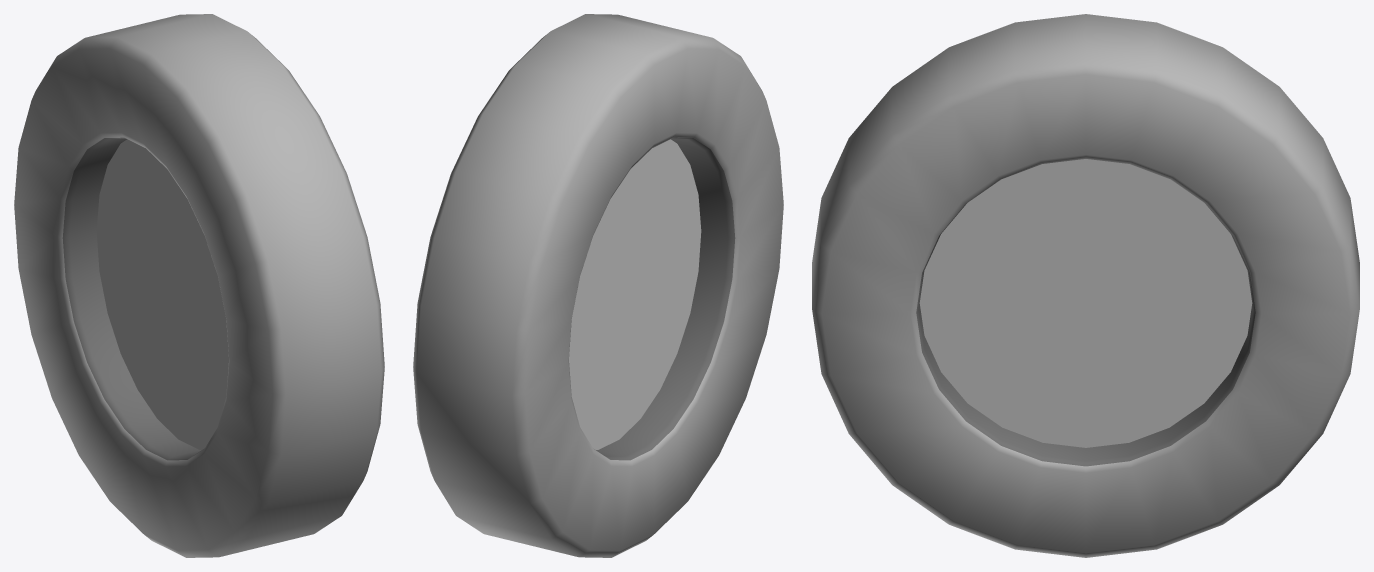
The model's file is Coin_V2_00.fbx.
The picture shows the model from 3 angles, left to right: view 1: azimuth 30°, elevation 25°; view 2: azimuth 150°, elevation 25°; view 3: azimuth 270°, elevation 25°; orthographic projection. The views are drawn at different scales.
Visible parts, largest first — view 1: Coin_V2_00; view 2: Coin_V2_00; view 3: Coin_V2_00.
Part boxes in pixels (box(x1,y1,x2,y2)): Coin_V2_00: box(14, 14, 384, 557); Coin_V2_00: box(413, 14, 783, 557); Coin_V2_00: box(812, 14, 1359, 557).
Size of the model in its own units: 10.36 by 43 by 43.
